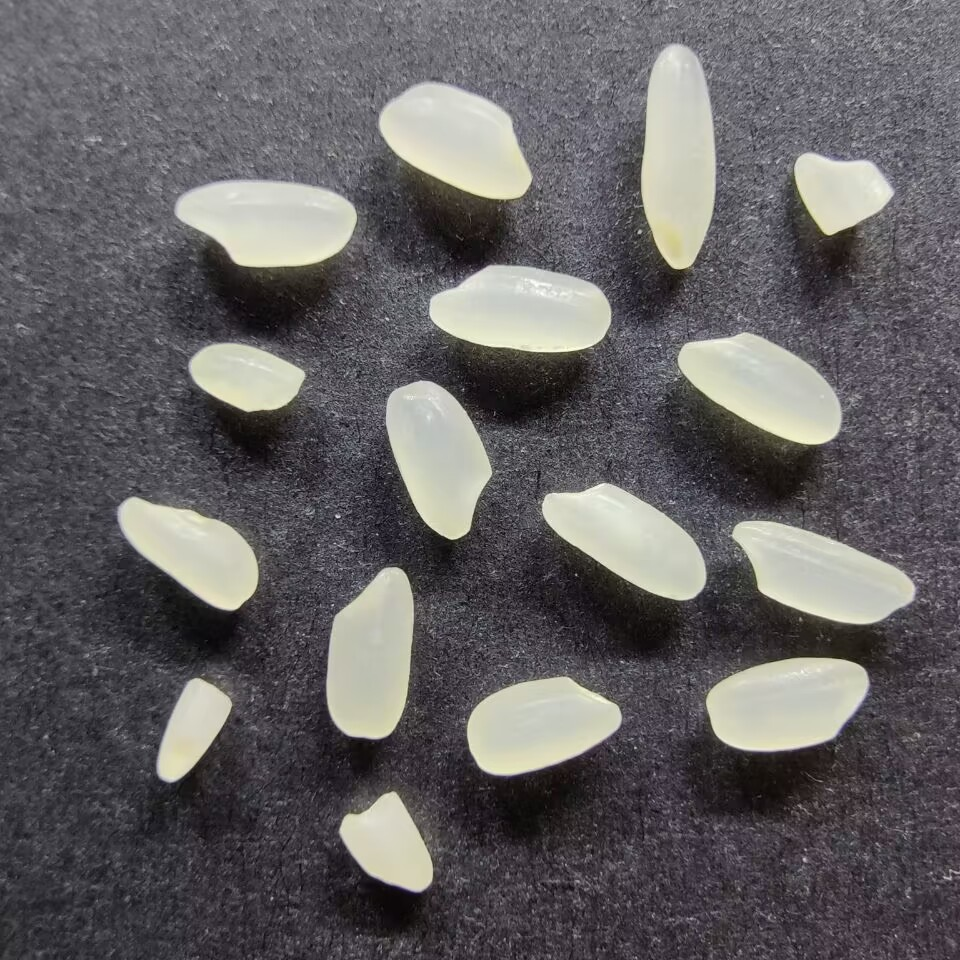broken: (335, 790, 436, 892), (153, 676, 235, 786), (793, 151, 897, 237), (186, 343, 306, 413)
rice: (731, 518, 917, 626), (539, 482, 707, 600), (676, 331, 842, 446), (375, 80, 533, 200), (637, 43, 717, 270), (383, 379, 493, 541), (115, 494, 262, 613), (427, 261, 614, 353), (173, 177, 357, 269), (466, 673, 622, 779), (706, 654, 869, 752), (326, 565, 414, 741)
